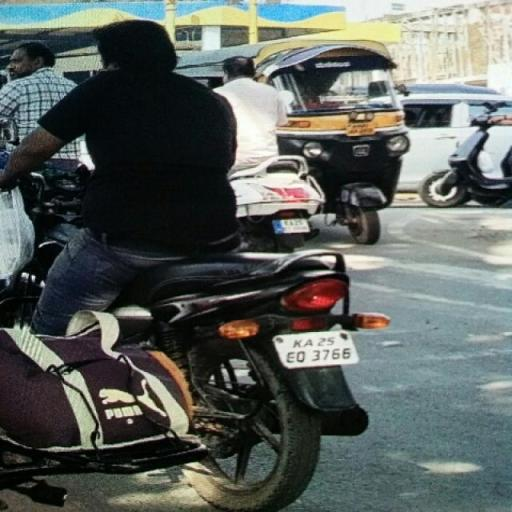bike: (16, 8, 393, 510)
numberplate: (278, 328, 360, 371)
withouthelmet: (94, 21, 171, 67)
